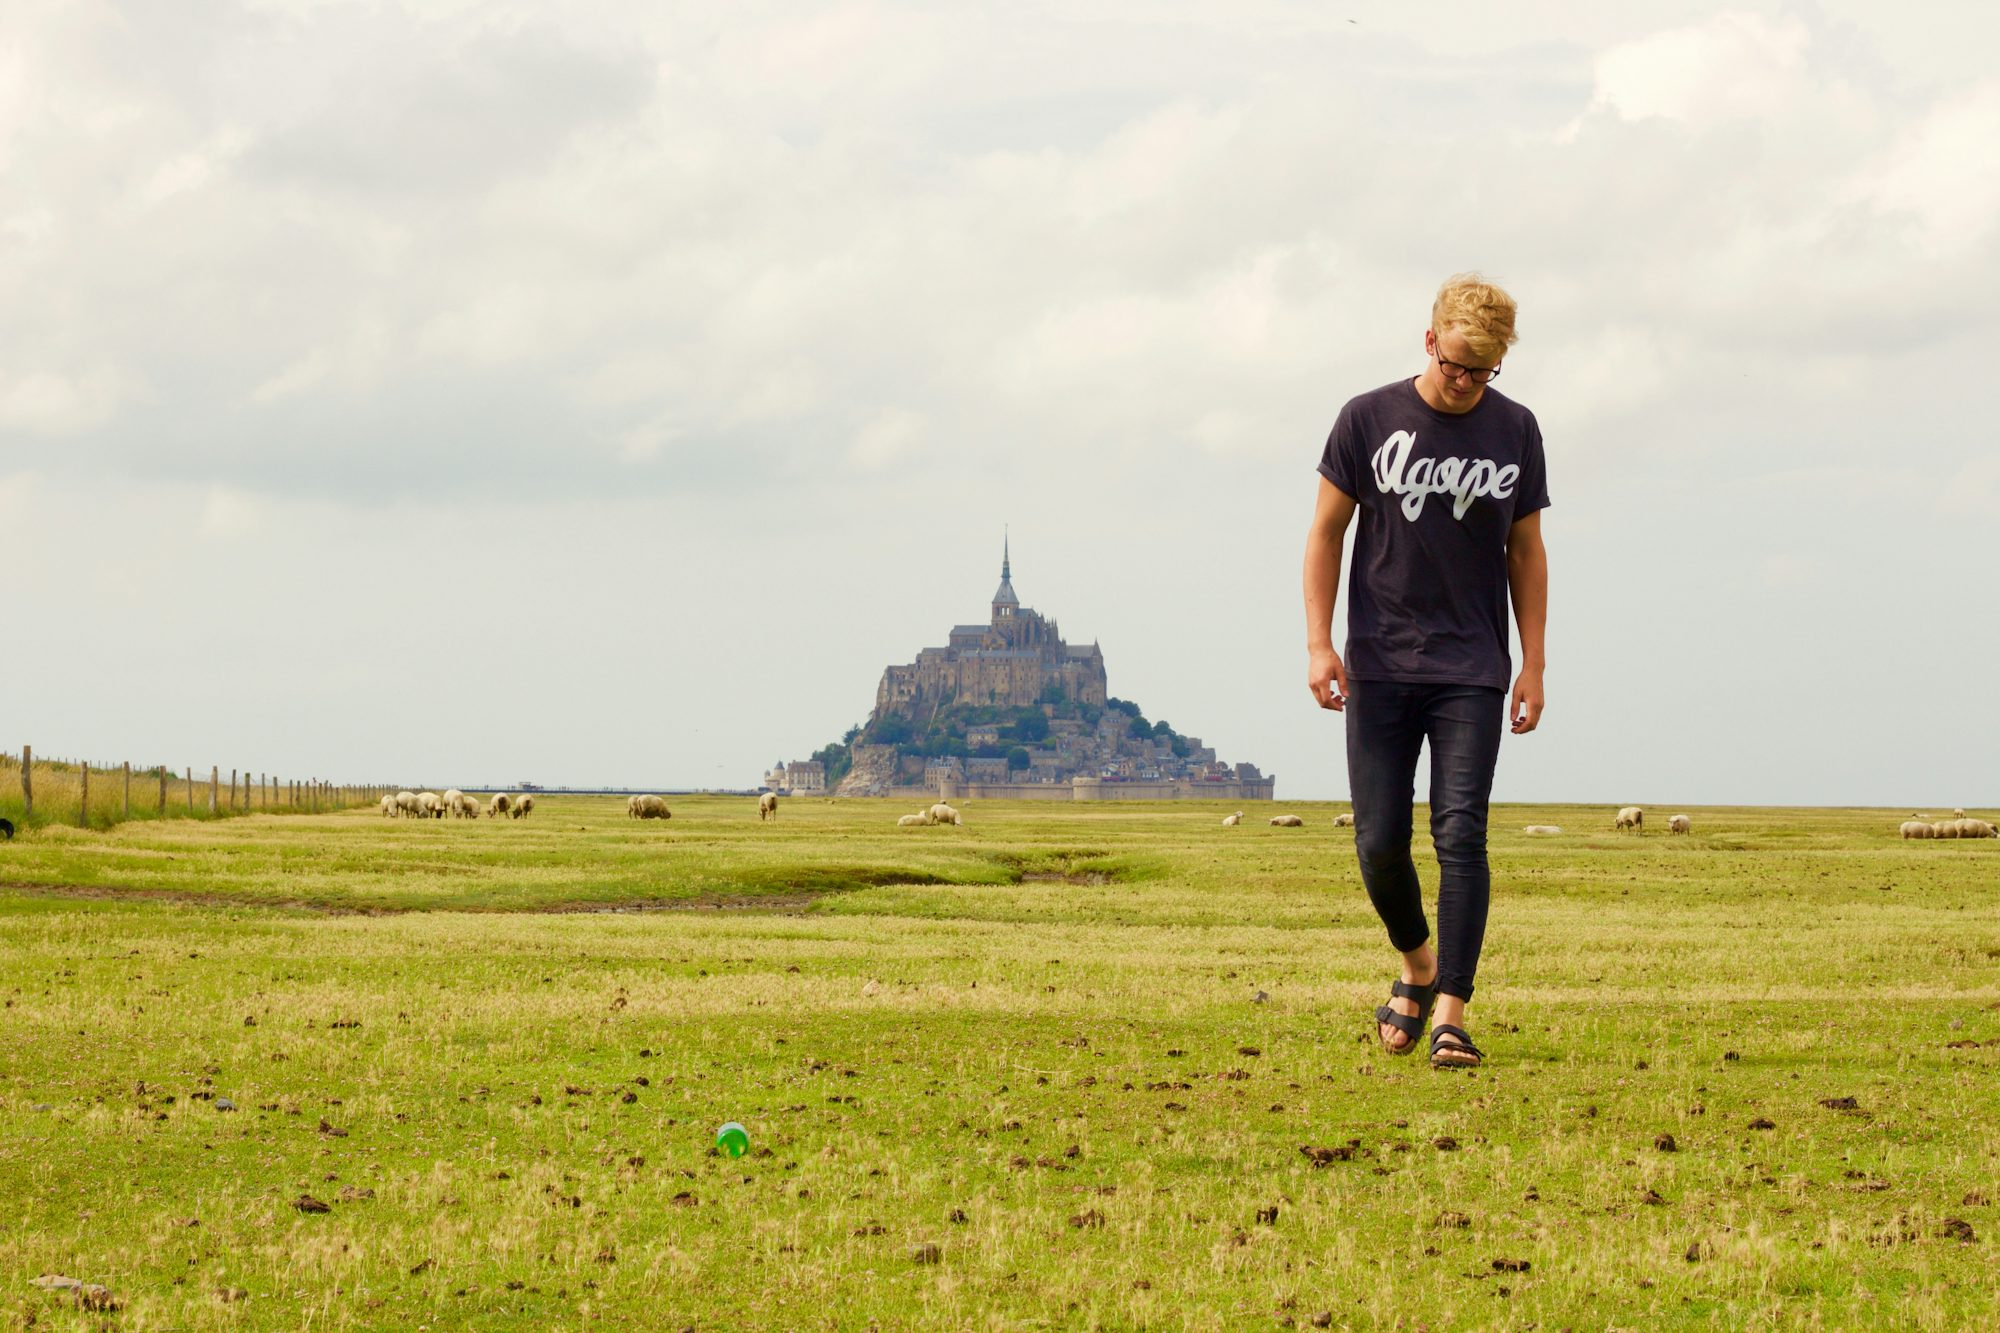person: (1256, 238, 1639, 1080)
